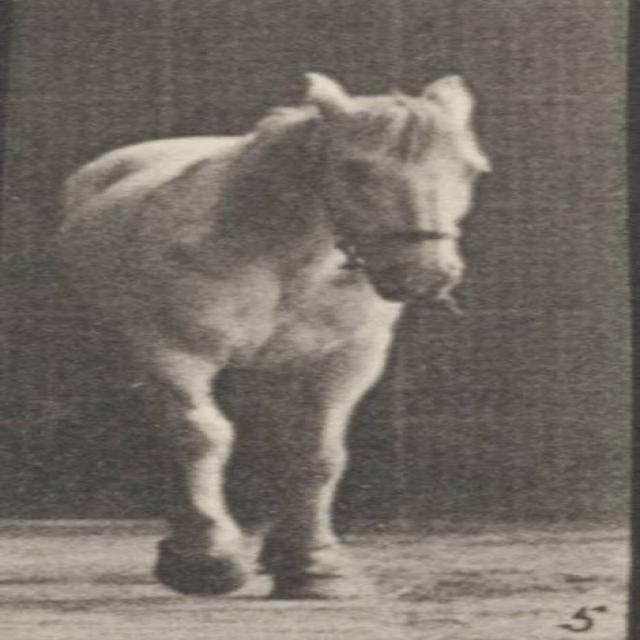Horse: (38, 69, 495, 605)
